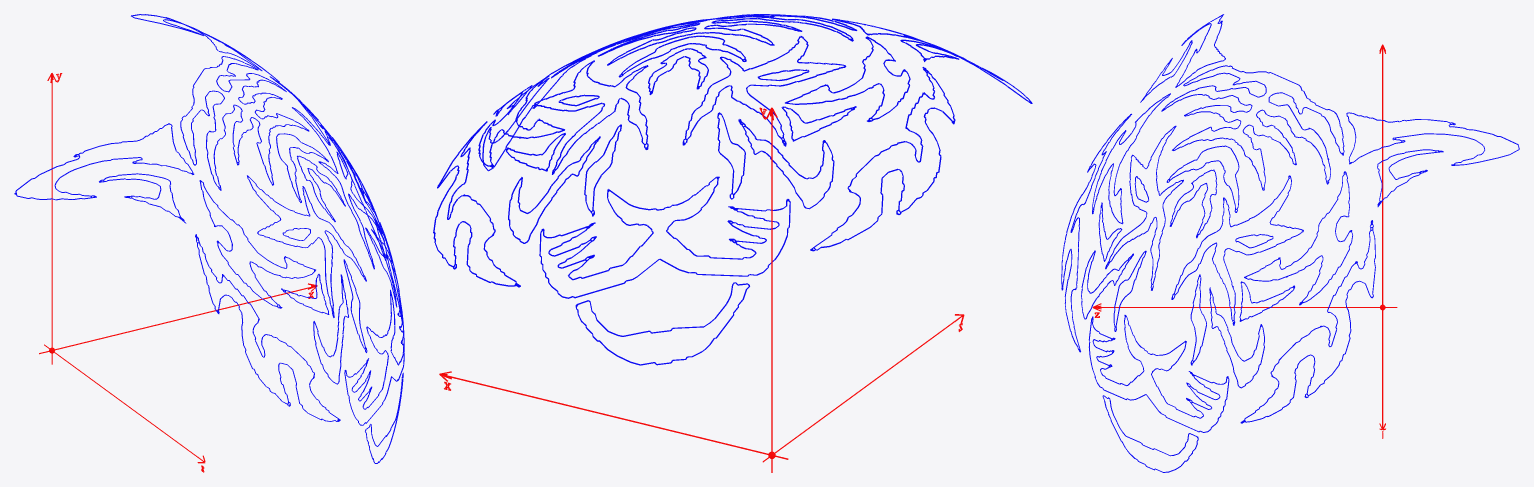
The picture shows the model from 3 angles, left to right: view 1: azimuth 30°, elevation 25°; view 2: azimuth 150°, elevation 25°; view 3: azimuth 270°, elevation 25°; orthographic projection. The views are drawn at different scales.
Bounding box in the file's own units: 1.57 × 1.29 × 1.58.
